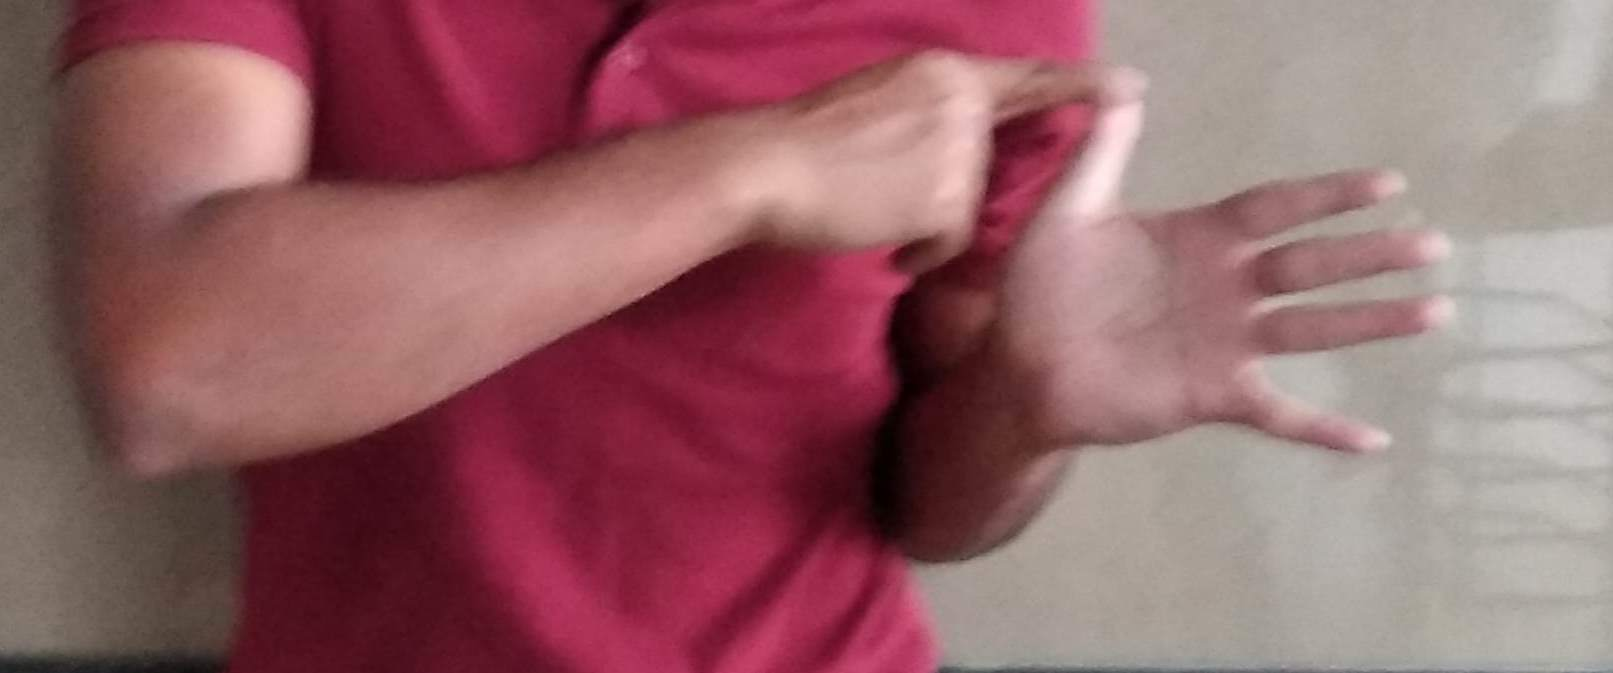a: (821, 41, 1467, 475)
